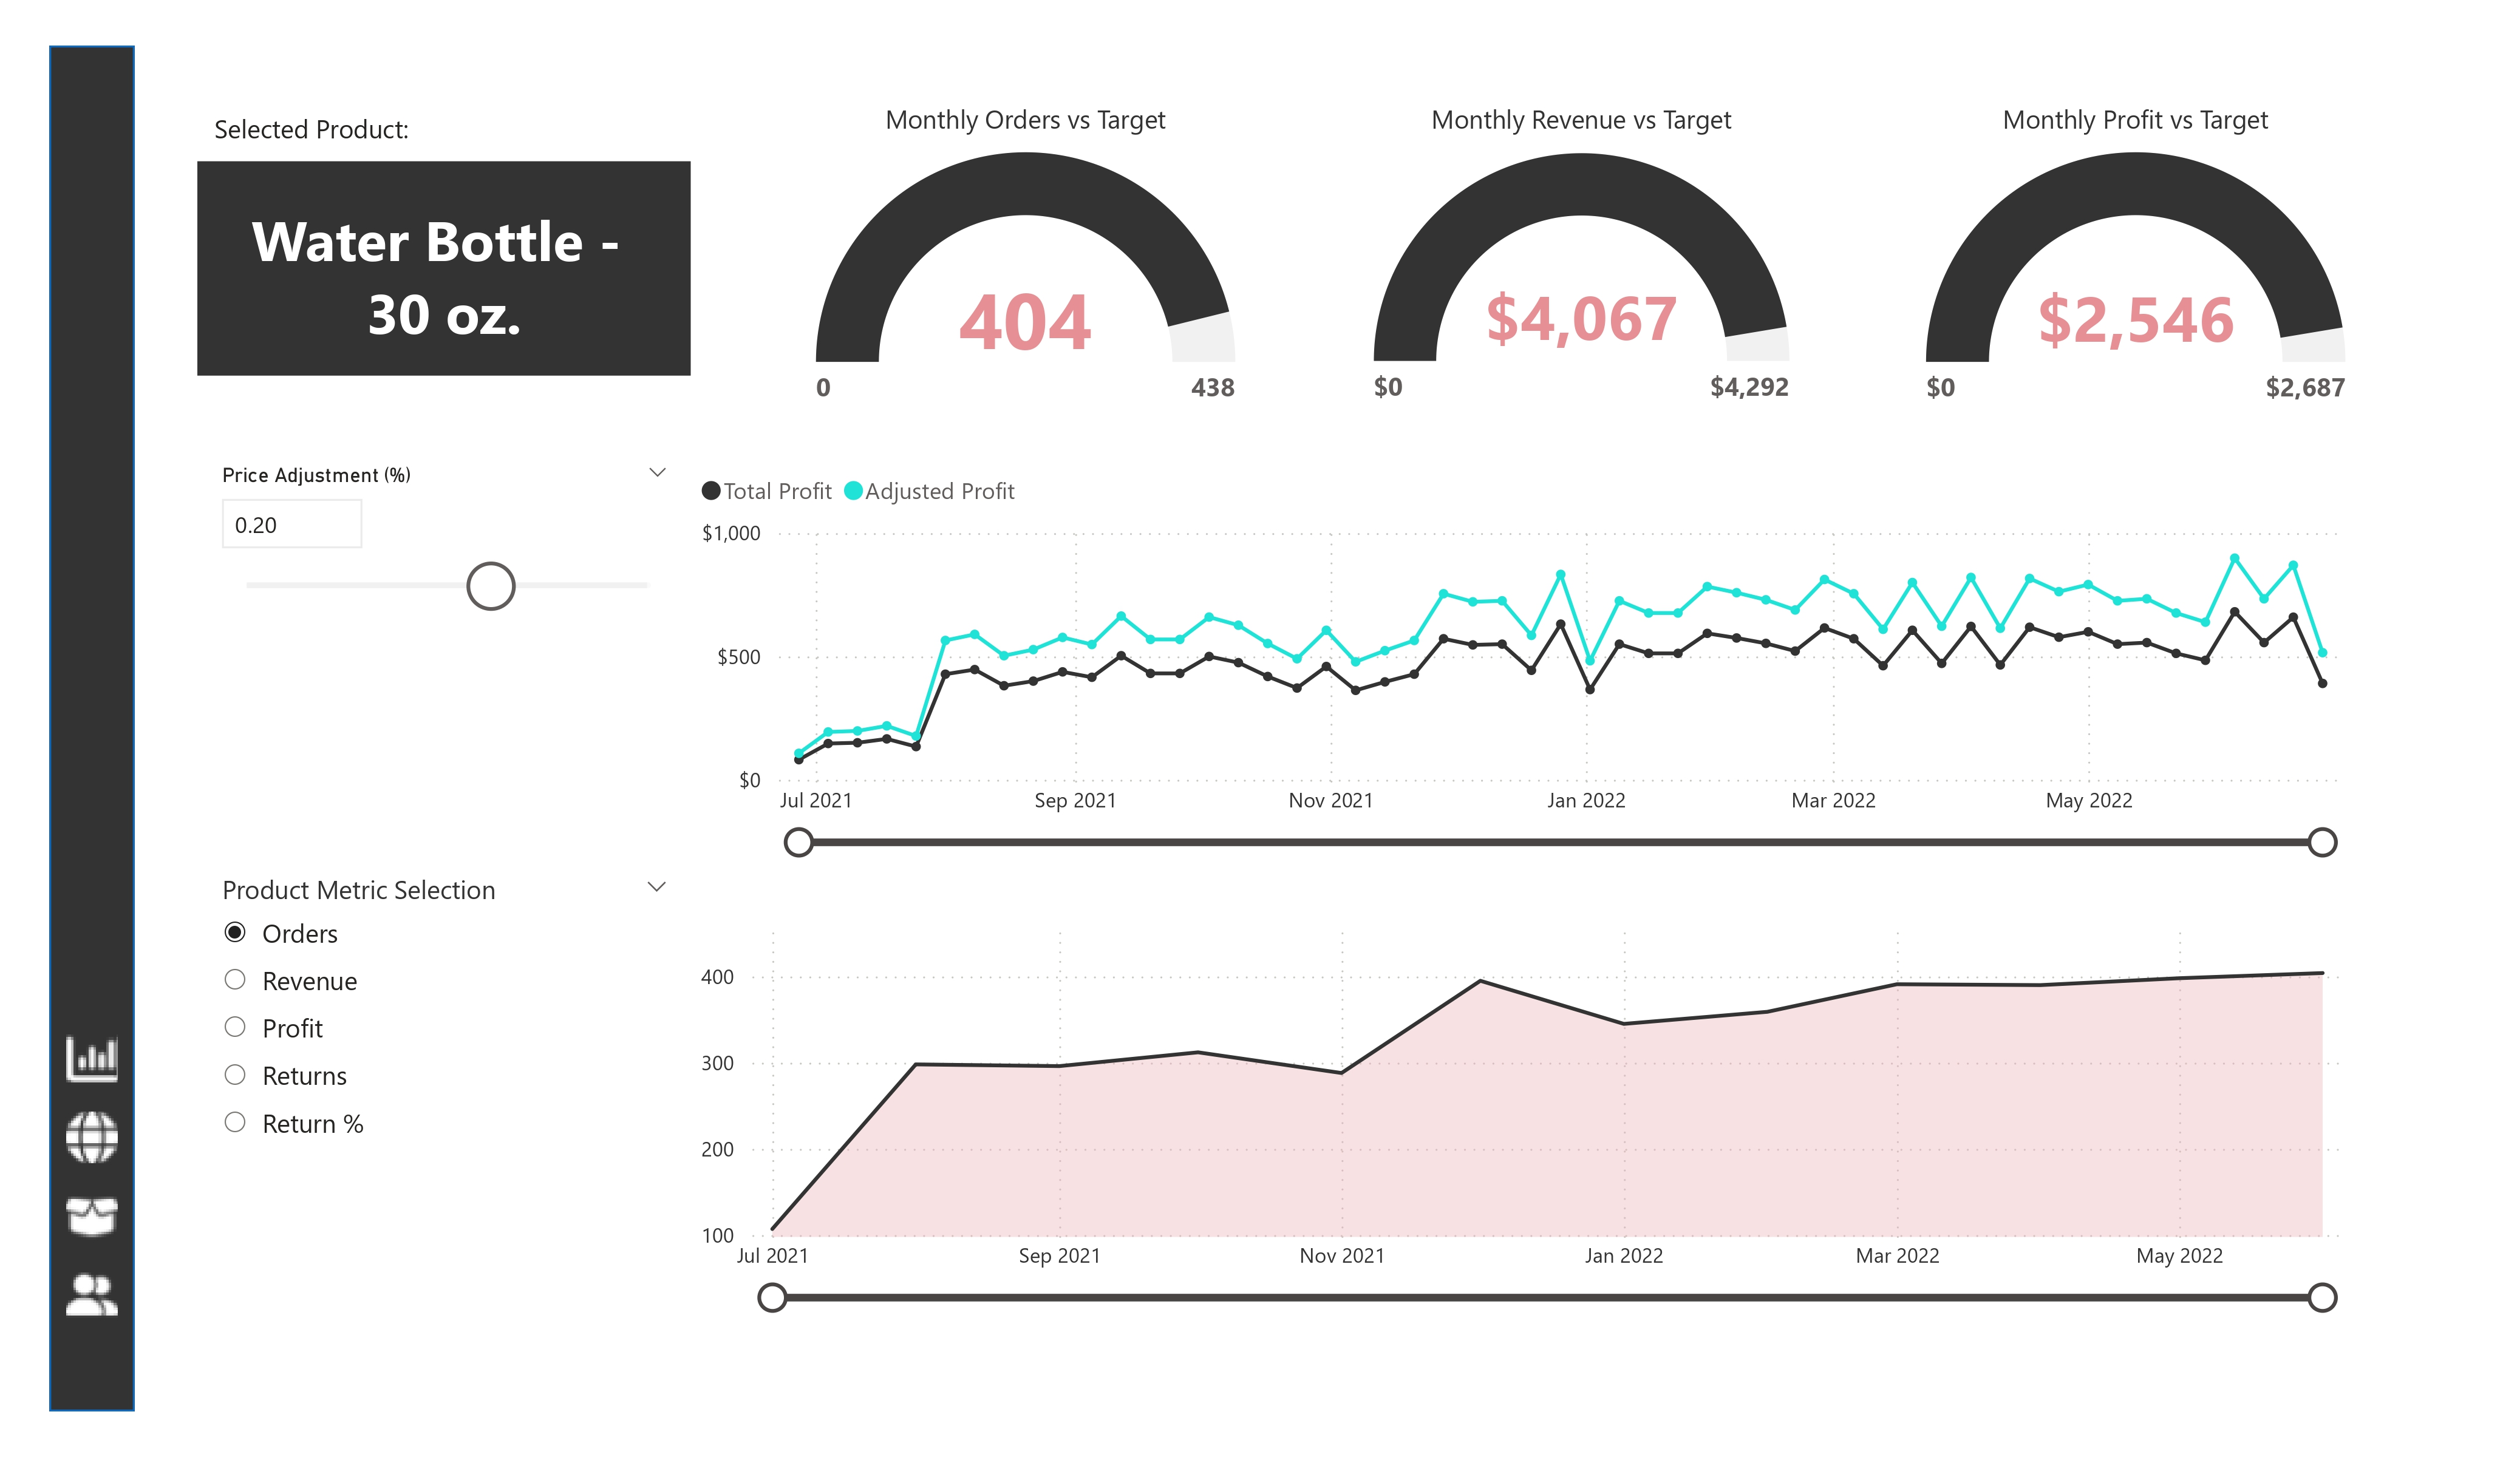

This screenshot's page, from the dashboard's own definition file:
{"tool":"powerbi","page":{"name":"Product Detail","canvas":[1280,720],"ordinal":2},"visuals":[{"type":"actionButton","box":[7.5,516.8,44.7,34.8],"z":0,"group":"g1"},{"type":"shape","box":[2,0,45,720],"z":0},{"type":"gauge","title":"Monthly Orders vs Target","fields":{"MaxValue":["Measure_Table.Order Target"],"Y":["Measure_Table.Total Orders"]},"box":[401,30.4,230.9,172.2],"z":1000},{"type":"actionButton","box":[7.5,558.2,44.7,34.8],"z":1000,"group":"g1"},{"type":"gauge","title":"Monthly Revenue vs Target","fields":{"Y":["Measure_Table.Total Revenue"],"MaxValue":["Measure_Table.Revenue Target"]},"box":[694.7,30.4,228.9,172.2],"z":2000},{"type":"actionButton","box":[7.5,641,44.7,34.8],"z":2000,"group":"g1"},{"type":"gauge","title":"Monthly Profit vs Target","fields":{"Y":["Measure_Table.Total Profit"],"MaxValue":["Measure_Table.Profit Target"]},"box":[986.3,30.4,230.9,172.2],"z":3000},{"type":"actionButton","box":[7.5,599.6,44.7,34.8],"z":3000,"group":"g1"},{"type":"lineChart","title":"Profit Trending","fields":{"Category":["Calendar Lookup.Date Hierarchy.Start of Year","Calendar Lookup.Date Hierarchy.Start of Month","Calendar Lookup.Date Hierarchy.Start of Week"],"Y":["Measure_Table.Total Profit","Measure_Table.Adjusted Profit"]},"box":[339.6,215.3,889.5,215.3],"z":4000},{"type":"areaChart","title":"Return Trending","fields":{"Y":["Measure_Table.Total Orders"],"Category":["Calendar Lookup.Date Hierarchy.Start of Year","Calendar Lookup.Date Hierarchy.Start of Month","Calendar Lookup.Date Hierarchy.Start of Week"]},"box":[339.6,453.9,889.5,217],"z":5000},{"type":"card","fields":{"Values":["Min(Product Lookup.ProductName)"]},"box":[79.5,61.3,260.1,112.6],"z":6000},{"type":"textbox","box":[84.5,29.8,127.5,41.4],"z":7000},{"type":"group","id":"g1","title":"Navigation Buttons","box":[7.5,516.8,44.7,159],"z":8000},{"type":"slicer","fields":{"Values":["Price Adjustment (%).Price Adjustment (%)"]},"box":[67.9,215.3,260.1,130.9],"z":9000},{"type":"slicer","fields":{"Values":["Product Metric Selection.Product Metric Selection"]},"box":[79.5,430.7,260.1,225.3],"z":10000}]}

Visuals, with their boxes on the page's 1280x720 design canvas (x1, y1, x2, y2). These are canvas units, not pixel positions in the 2520x1457 screenshot, which may show the page scaled, cropped or inside an application window:
actionButton: (x1=8, y1=517, x2=52, y2=552)
shape: (x1=2, y1=0, x2=47, y2=720)
"Monthly Orders vs Target" gauge: (x1=401, y1=30, x2=632, y2=203)
actionButton: (x1=8, y1=558, x2=52, y2=593)
"Monthly Revenue vs Target" gauge: (x1=695, y1=30, x2=924, y2=203)
actionButton: (x1=8, y1=641, x2=52, y2=676)
"Monthly Profit vs Target" gauge: (x1=986, y1=30, x2=1217, y2=203)
actionButton: (x1=8, y1=600, x2=52, y2=634)
"Profit Trending" lineChart: (x1=340, y1=215, x2=1229, y2=431)
"Return Trending" areaChart: (x1=340, y1=454, x2=1229, y2=671)
card - Min(Product Lookup.ProductName): (x1=80, y1=61, x2=340, y2=174)
textbox: (x1=84, y1=30, x2=212, y2=71)
"Navigation Buttons" group: (x1=8, y1=517, x2=52, y2=676)
slicer - Price Adjustment (%).Price Adjustment (%): (x1=68, y1=215, x2=328, y2=346)
slicer - Product Metric Selection.Product Metric Selection: (x1=80, y1=431, x2=340, y2=656)
